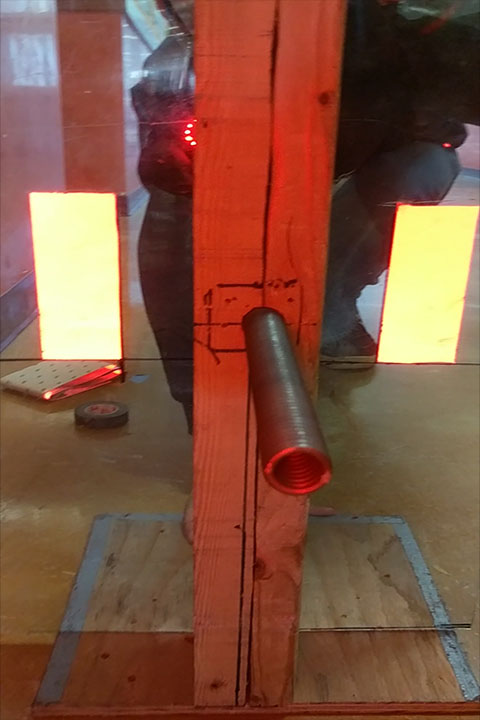gear: (374, 202, 480, 364), (27, 191, 124, 361)
